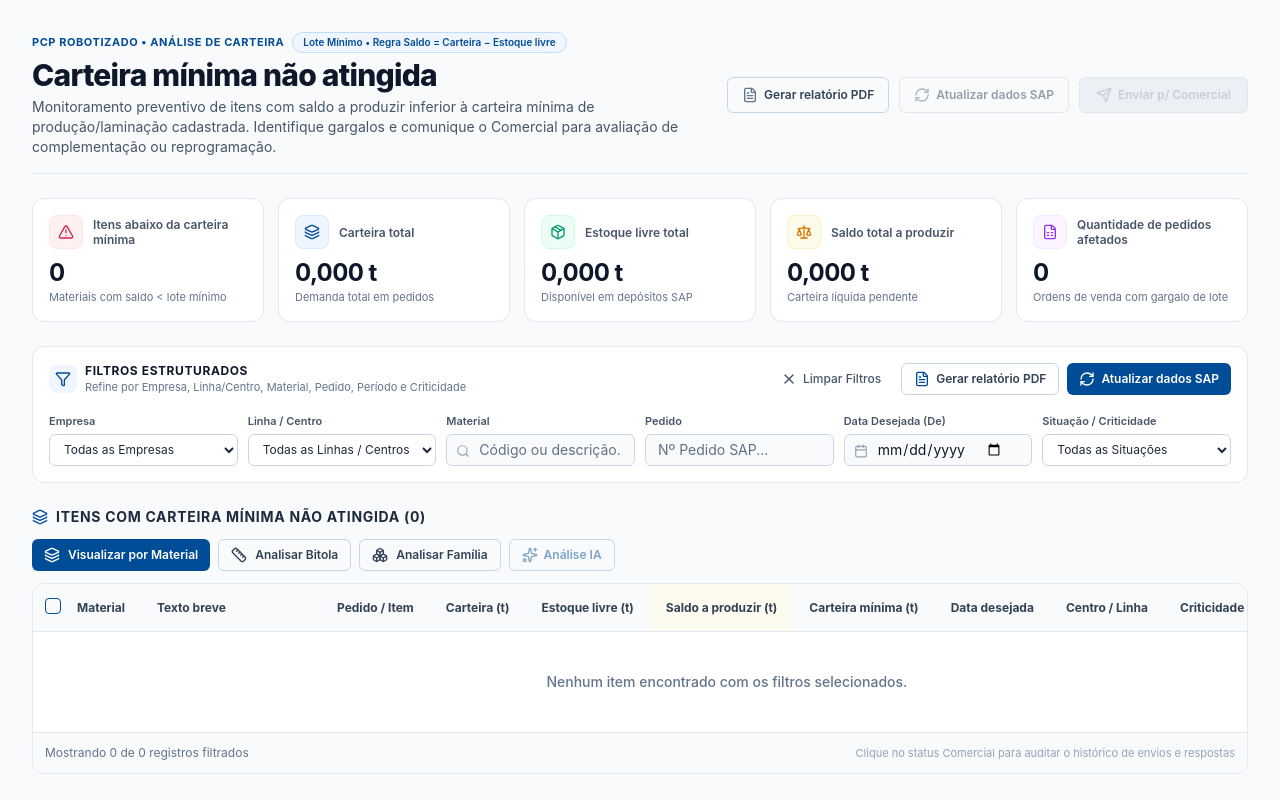
Test: CarteiraMinimaNaoAtingidaPage — Integração e Alternância de Visões › ao clicar em [Analisar Bitola], alterna para visão Bitola e habilita o botão [Análise IA]
Click the button "Analisar Bitola".
click(285, 555)  # box [218,539,351,571]
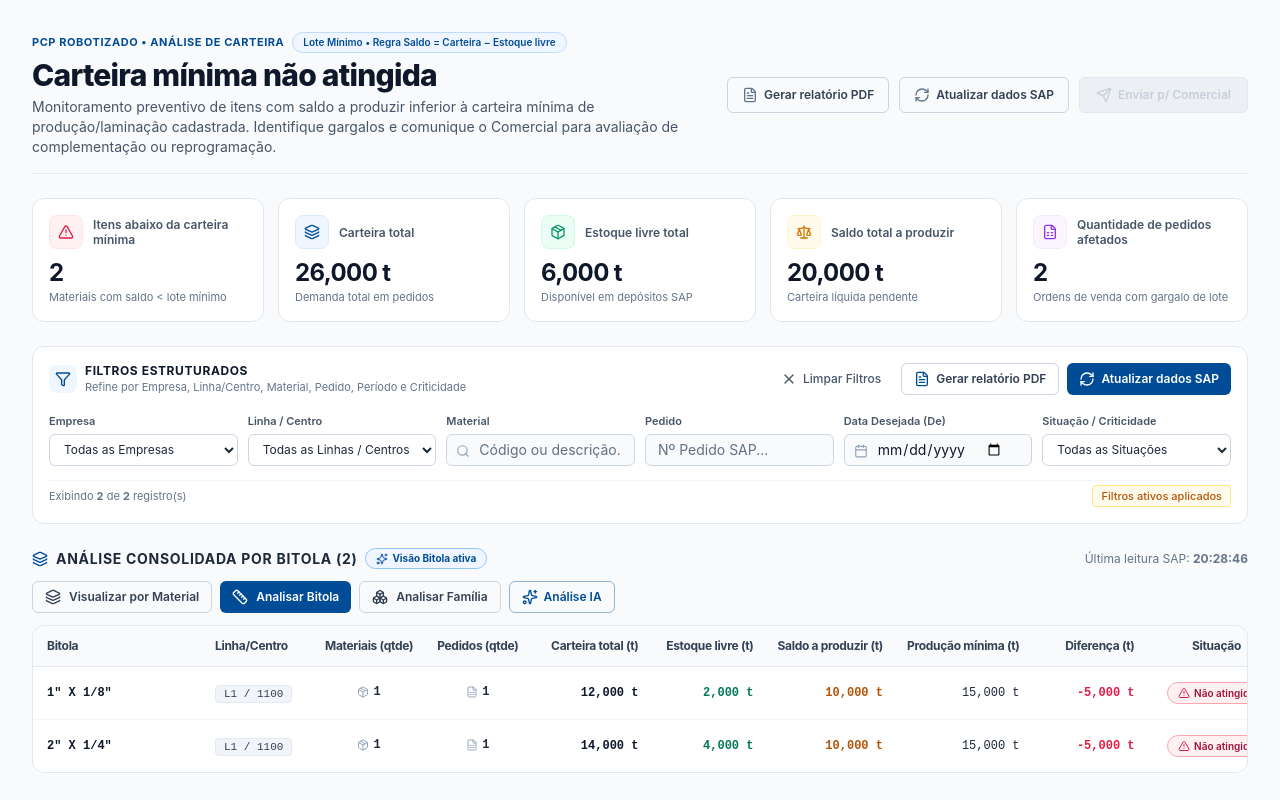
Check: the text "Visão Bitola ativa" is shown, box [365,548,487,569]
Check: the text "1\" X 1/8\"" is shown, box [47,685,112,701]
Check: the text "2\" X 1/4\"" is shown, box [47,738,112,754]
